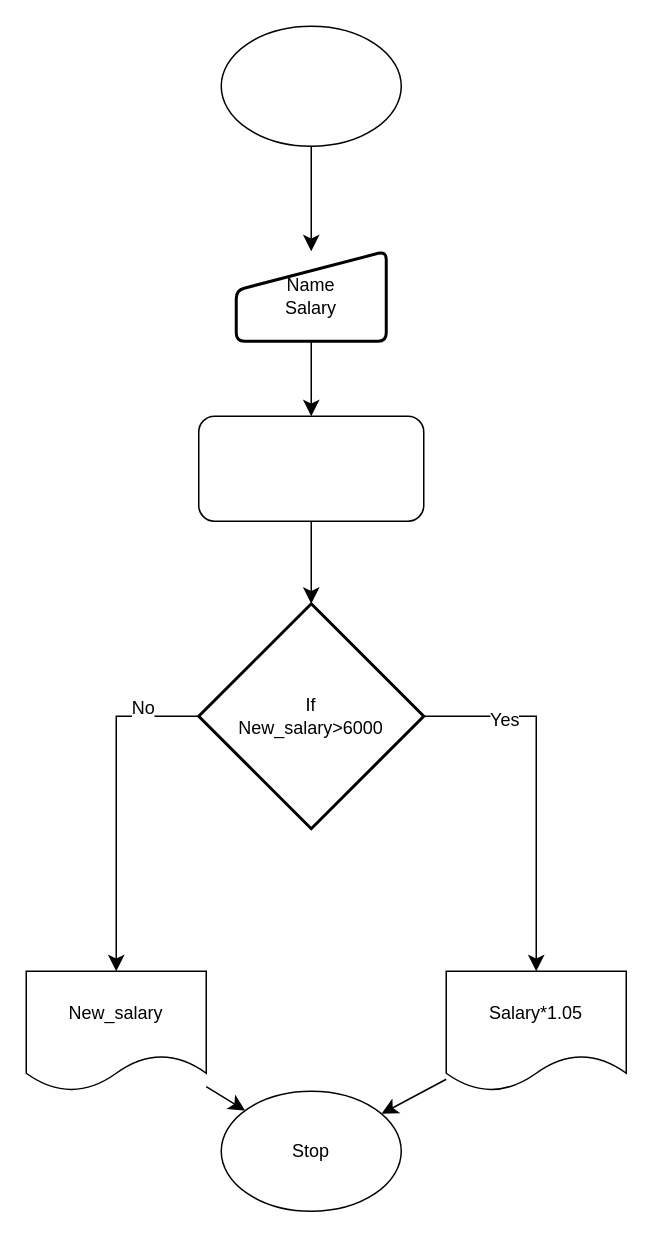
Image size: 653x1238. Some labels were removed from this diagram. Each missing label, with the box of its shape:
New_salary = Salary * 1.1: (197, 415, 424, 521)
Start: (220, 25, 401, 146)
